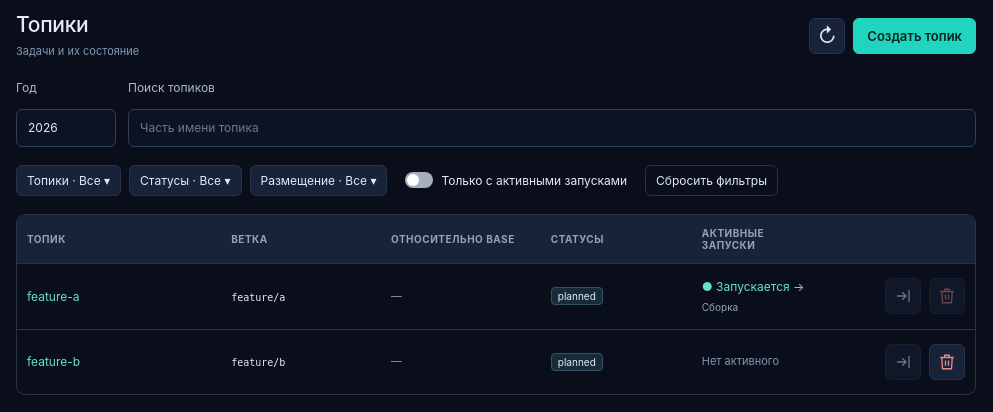
Scenario: keeps the board global, composes views/search, resets active too, and refilters after stop without reloading
Expected: the button with aria-label "Открыть топик feature-a" is shown, top-left (27, 289), bottom-right (80, 304)
Expected: the number of buttons named "Открыть топик feature-b" is 1, top-left (27, 354), bottom-right (80, 369)
Click the switch labelled "Только с активными запусками".
click(516, 180)  # box top-left (395, 165), bottom-right (637, 195)
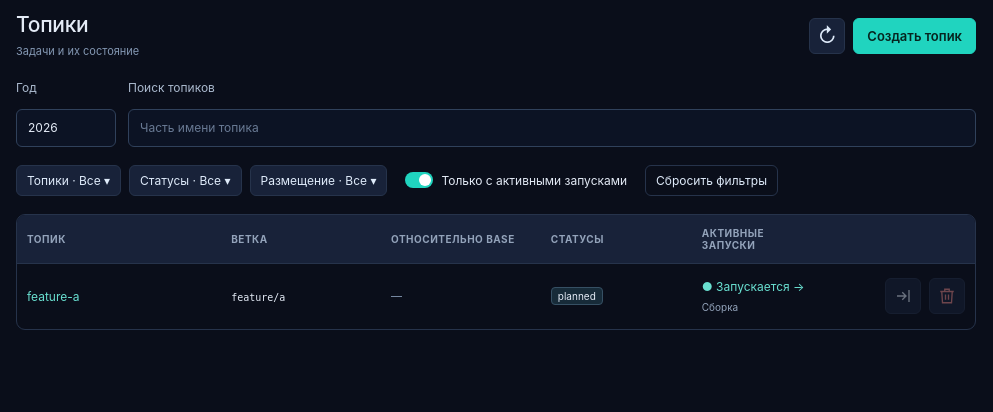
Result: the number of buttons named "Открыть топик feature-a" is 1 at top-left (27, 289), bottom-right (80, 304)
Type "feature-b" into the search field with placeholder "Часть имени топика".
click(552, 128); type("feature-b")  # box top-left (128, 109), bottom-right (976, 147)
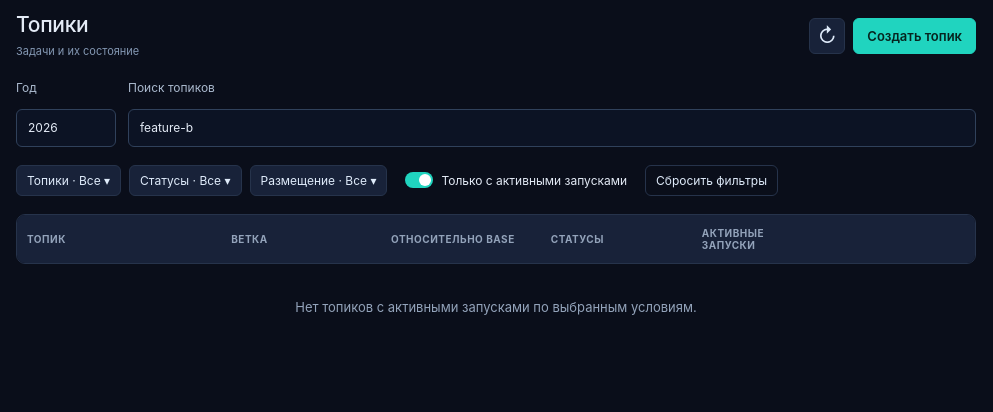
Click the button "Сбросить фильтры".
click(712, 180)  # box top-left (645, 165), bottom-right (778, 196)
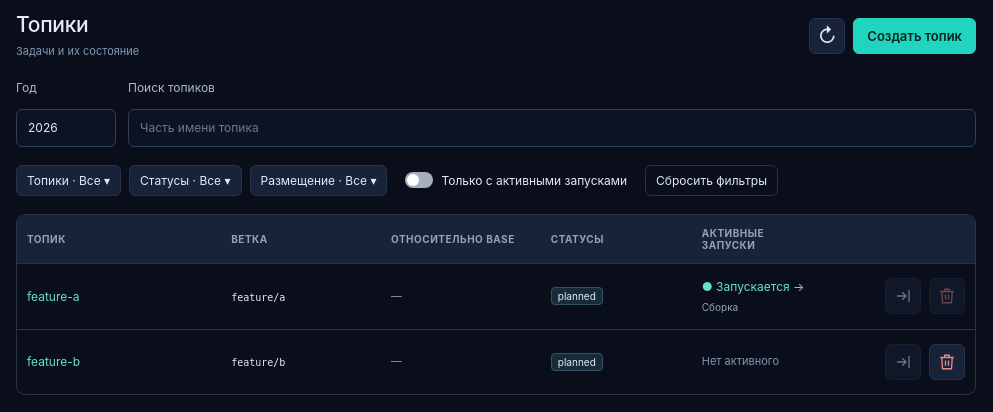
Result: the number of buttons named "Открыть топик feature-b" is 1 at top-left (27, 354), bottom-right (80, 369)
Click the switch labelled "Только с активными запусками".
click(516, 180)  # box top-left (395, 165), bottom-right (637, 195)
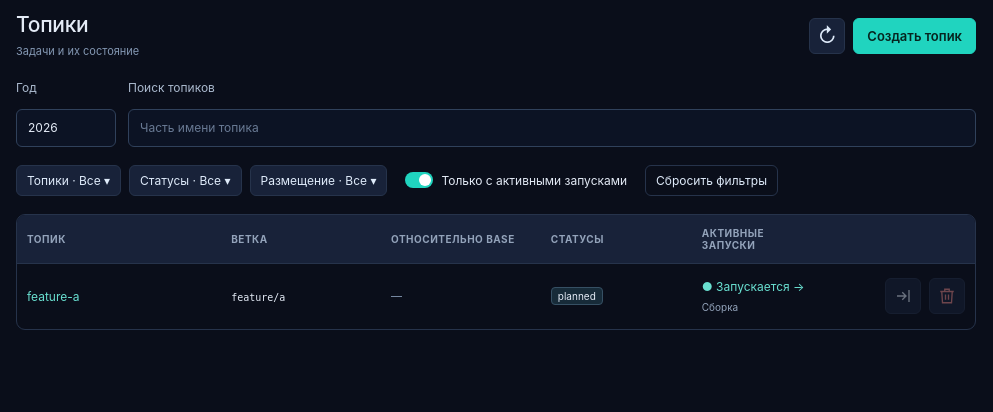
Result: the number of buttons named "Открыть топик feature-a" is 1 at top-left (27, 289), bottom-right (80, 304)
